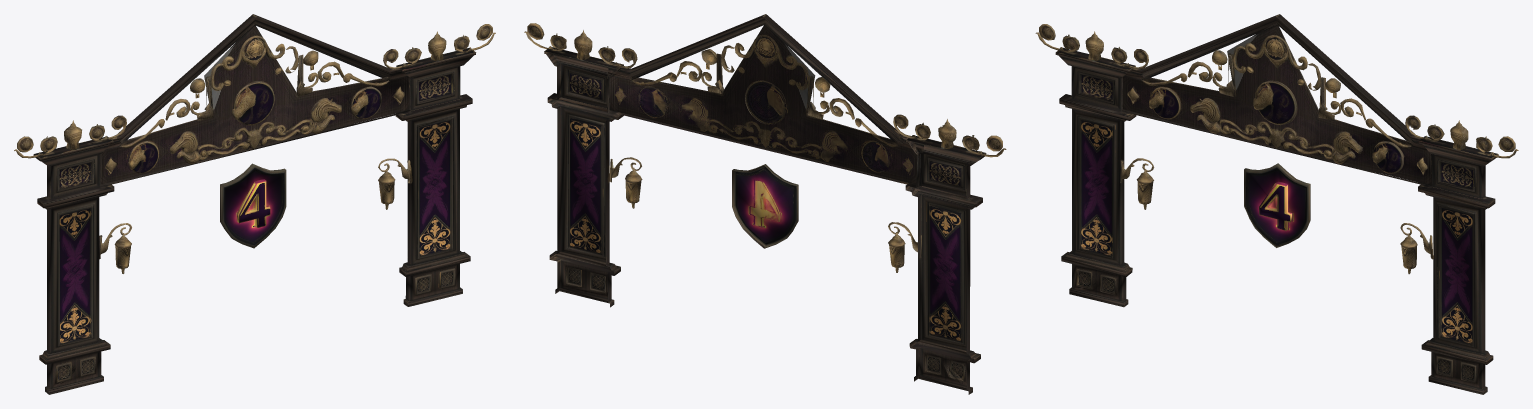
The model's file is race-arch.glb.
The picture shows the model from 3 angles, left to right: view 1: azimuth 30°, elevation 25°; view 2: azimuth 150°, elevation 25°; view 3: azimuth 330°, elevation 25°; orthographic projection.
Bounding box in the file's own units: 0.9575 × 0.6226 × 0.0283.
Materials: 1 (1 with a texture image).
